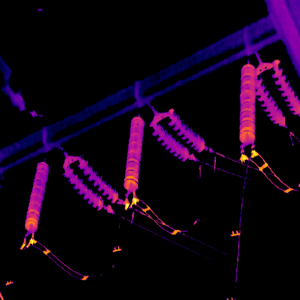insulator: (23, 160, 50, 234), (62, 164, 102, 211), (78, 157, 118, 203), (167, 106, 205, 153), (236, 61, 257, 144), (252, 76, 286, 127), (122, 115, 144, 193), (150, 121, 191, 161), (271, 60, 300, 115)
